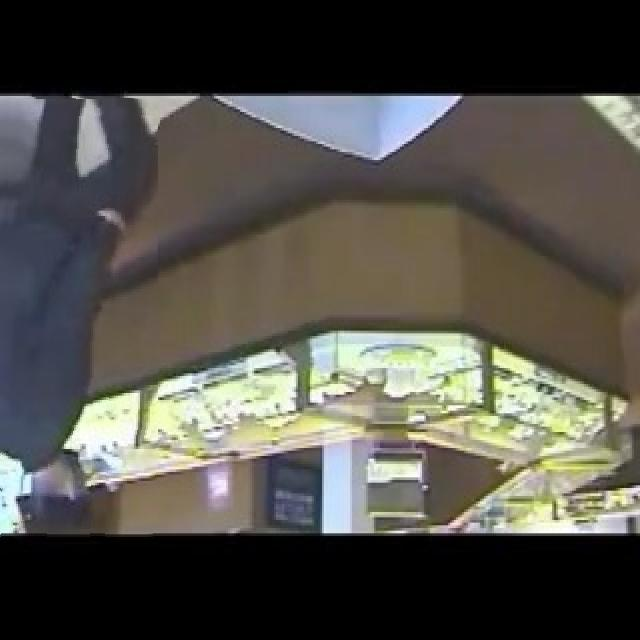Normal: (0, 98, 158, 543)
